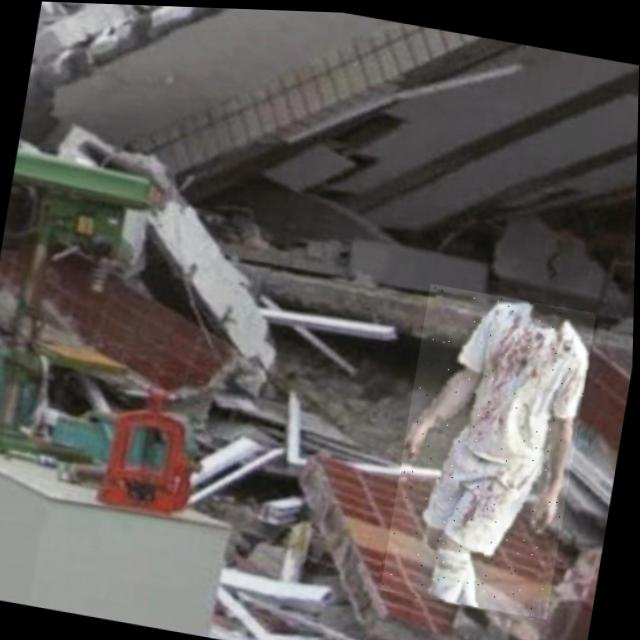Person in Rubble: (383, 279, 598, 617)
